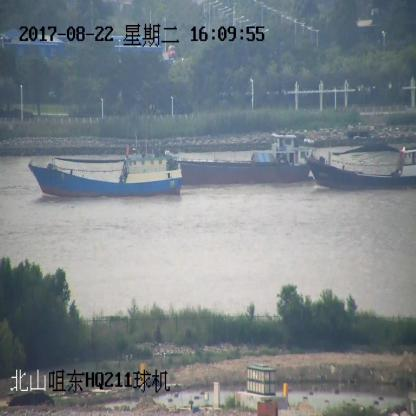Fishing Boat: (28, 140, 184, 200), (306, 136, 415, 190)
